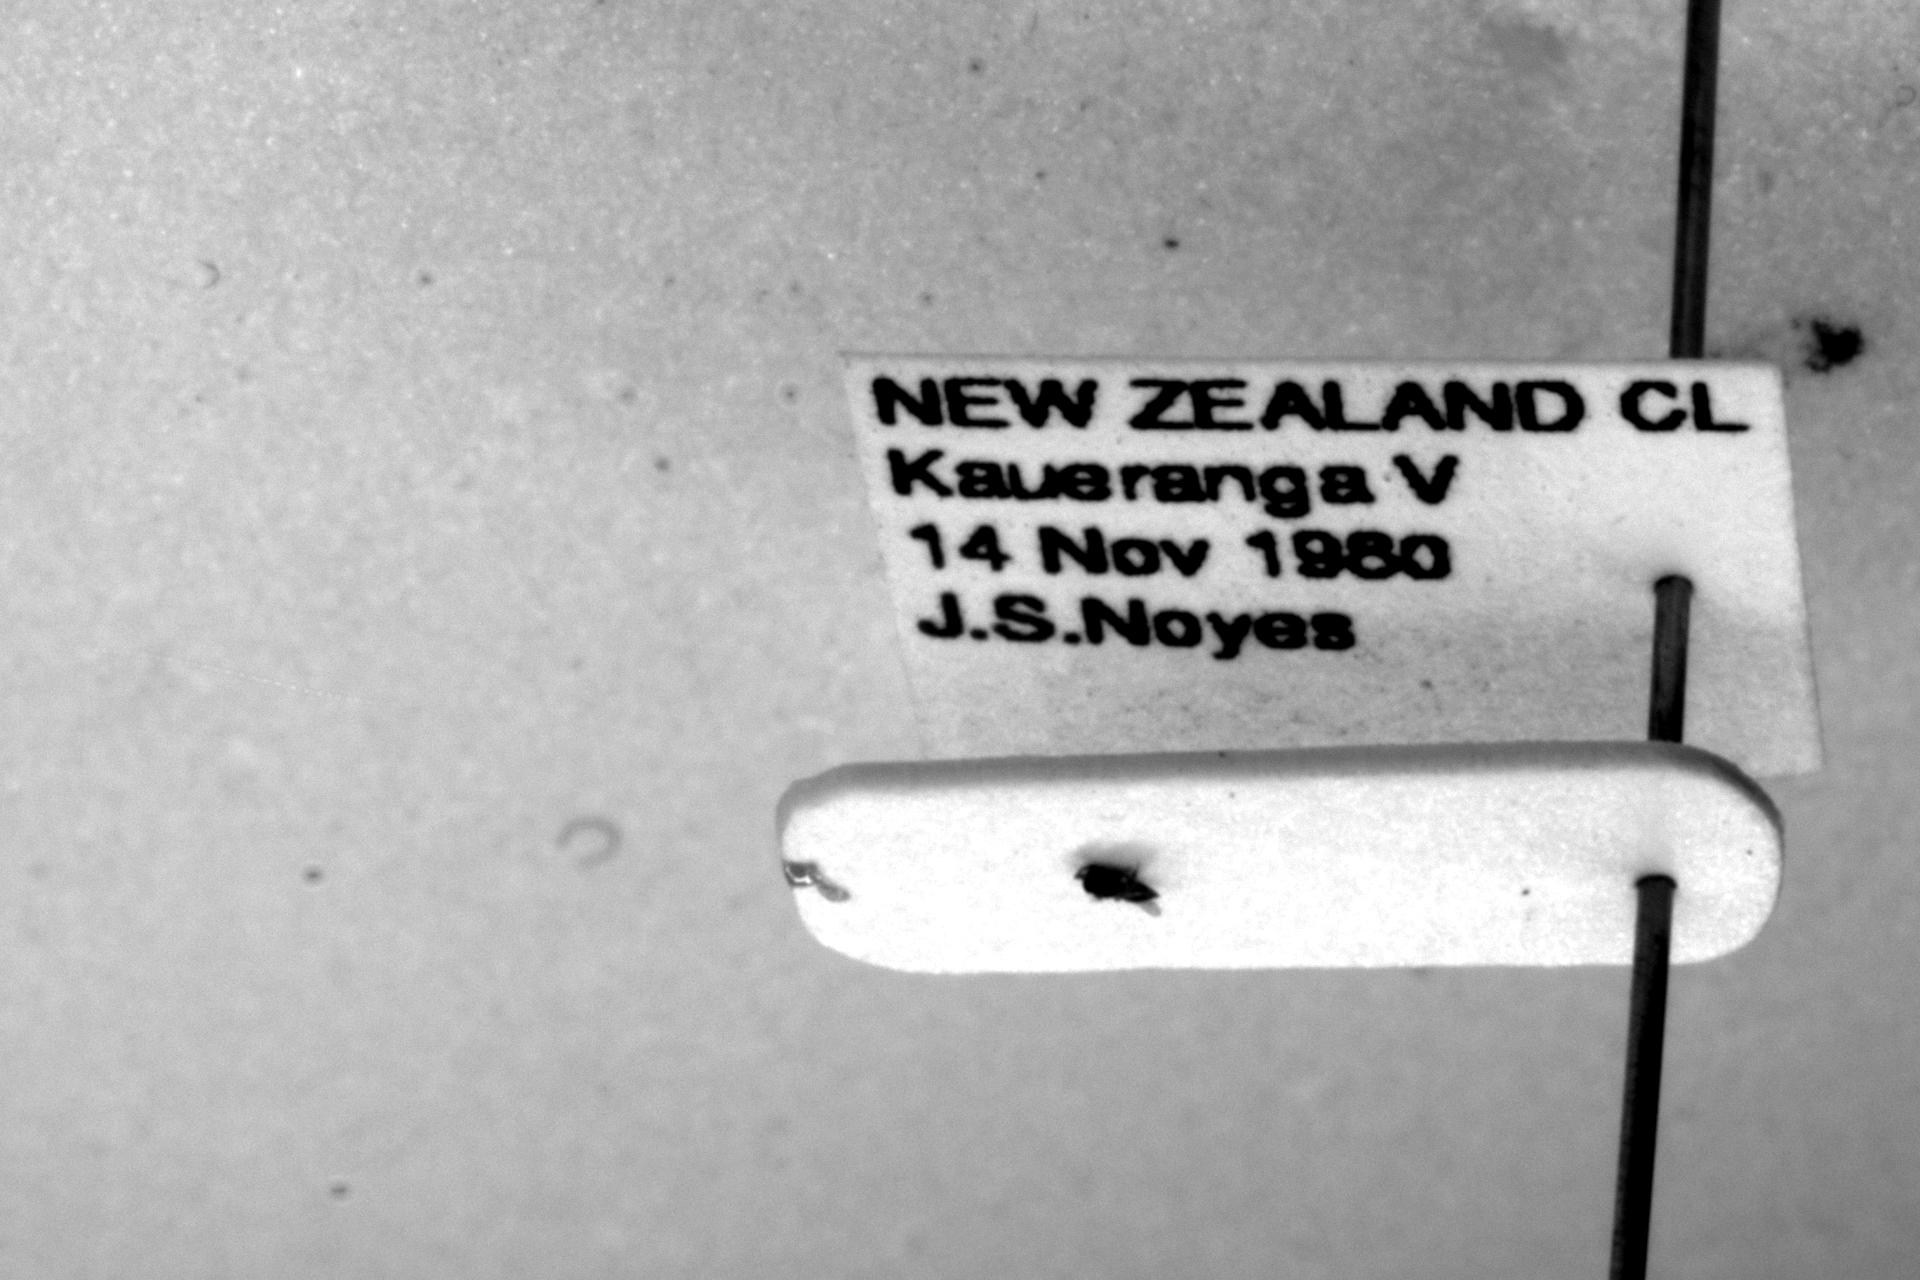typed_label: (844, 356, 1822, 776)
